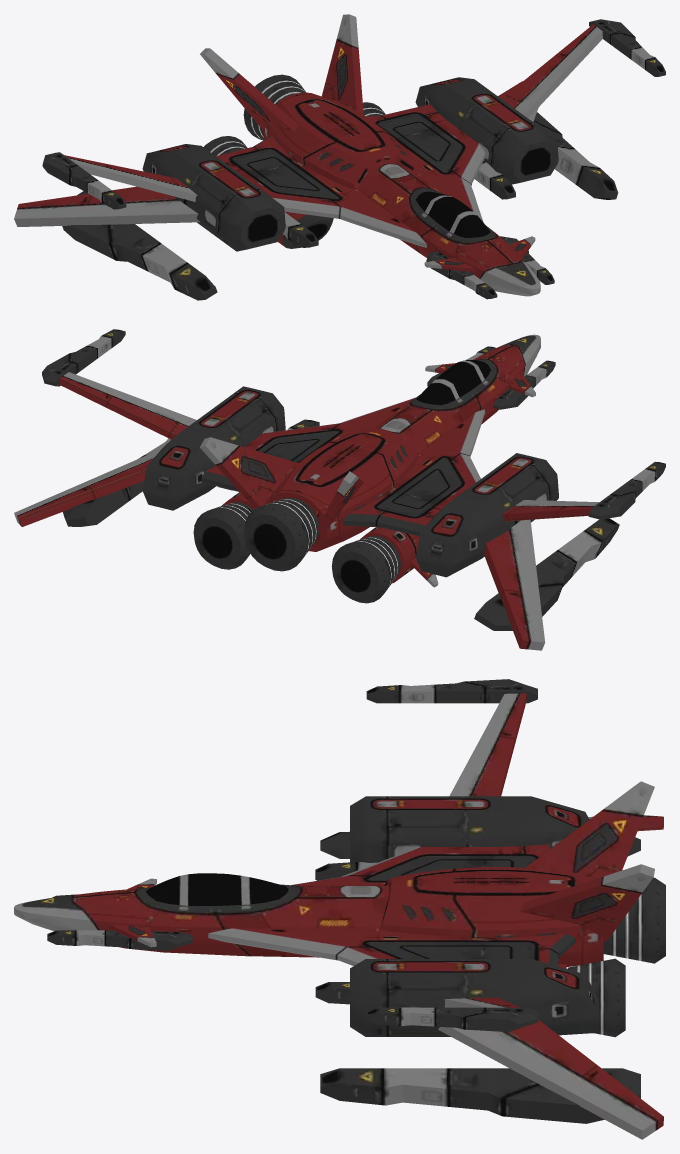
Rendered from hero-spaceship.glb.
The picture shows the model from 3 angles, top to bottom: view 1: azimuth 30°, elevation 25°; view 2: azimuth 150°, elevation 25°; view 3: azimuth 270°, elevation 25°; orthographic projection. The views are drawn at different scales.
Parts seen in each view (by area): view 1: Object_12; view 2: Object_12; view 3: Object_12.
Boxes of the visible parts, box(x1,y1,x2,y2) form: Object_12: box(14, 14, 665, 300); Object_12: box(14, 329, 665, 650); Object_12: box(14, 679, 665, 1139).
Bounding box in the file's own units: 7.88 × 1.82 × 6.34.
1 material, 1 textured.
